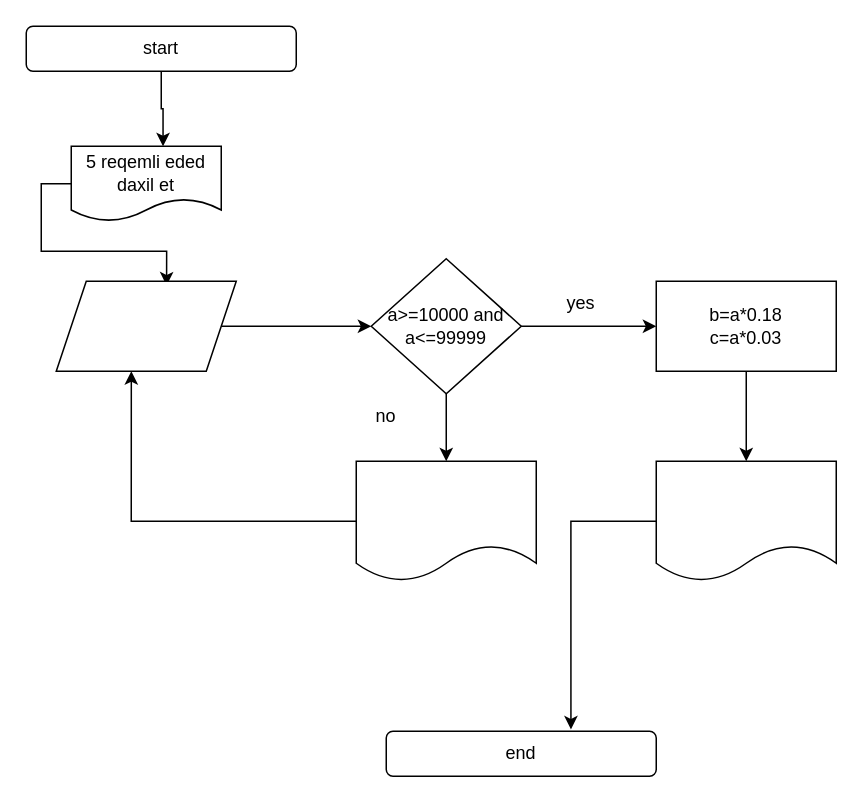
The diagram is 863 pixels wide and 803 high, and some of its shapes have lost their labels. Here are the shapes that lost their labels. From the top down, the centre of each, then its label:
At pixel 145 325: "a,b,c".
At pixel 445 520: "duzgun daxil edin".
At pixel 745 520: "b,c".
